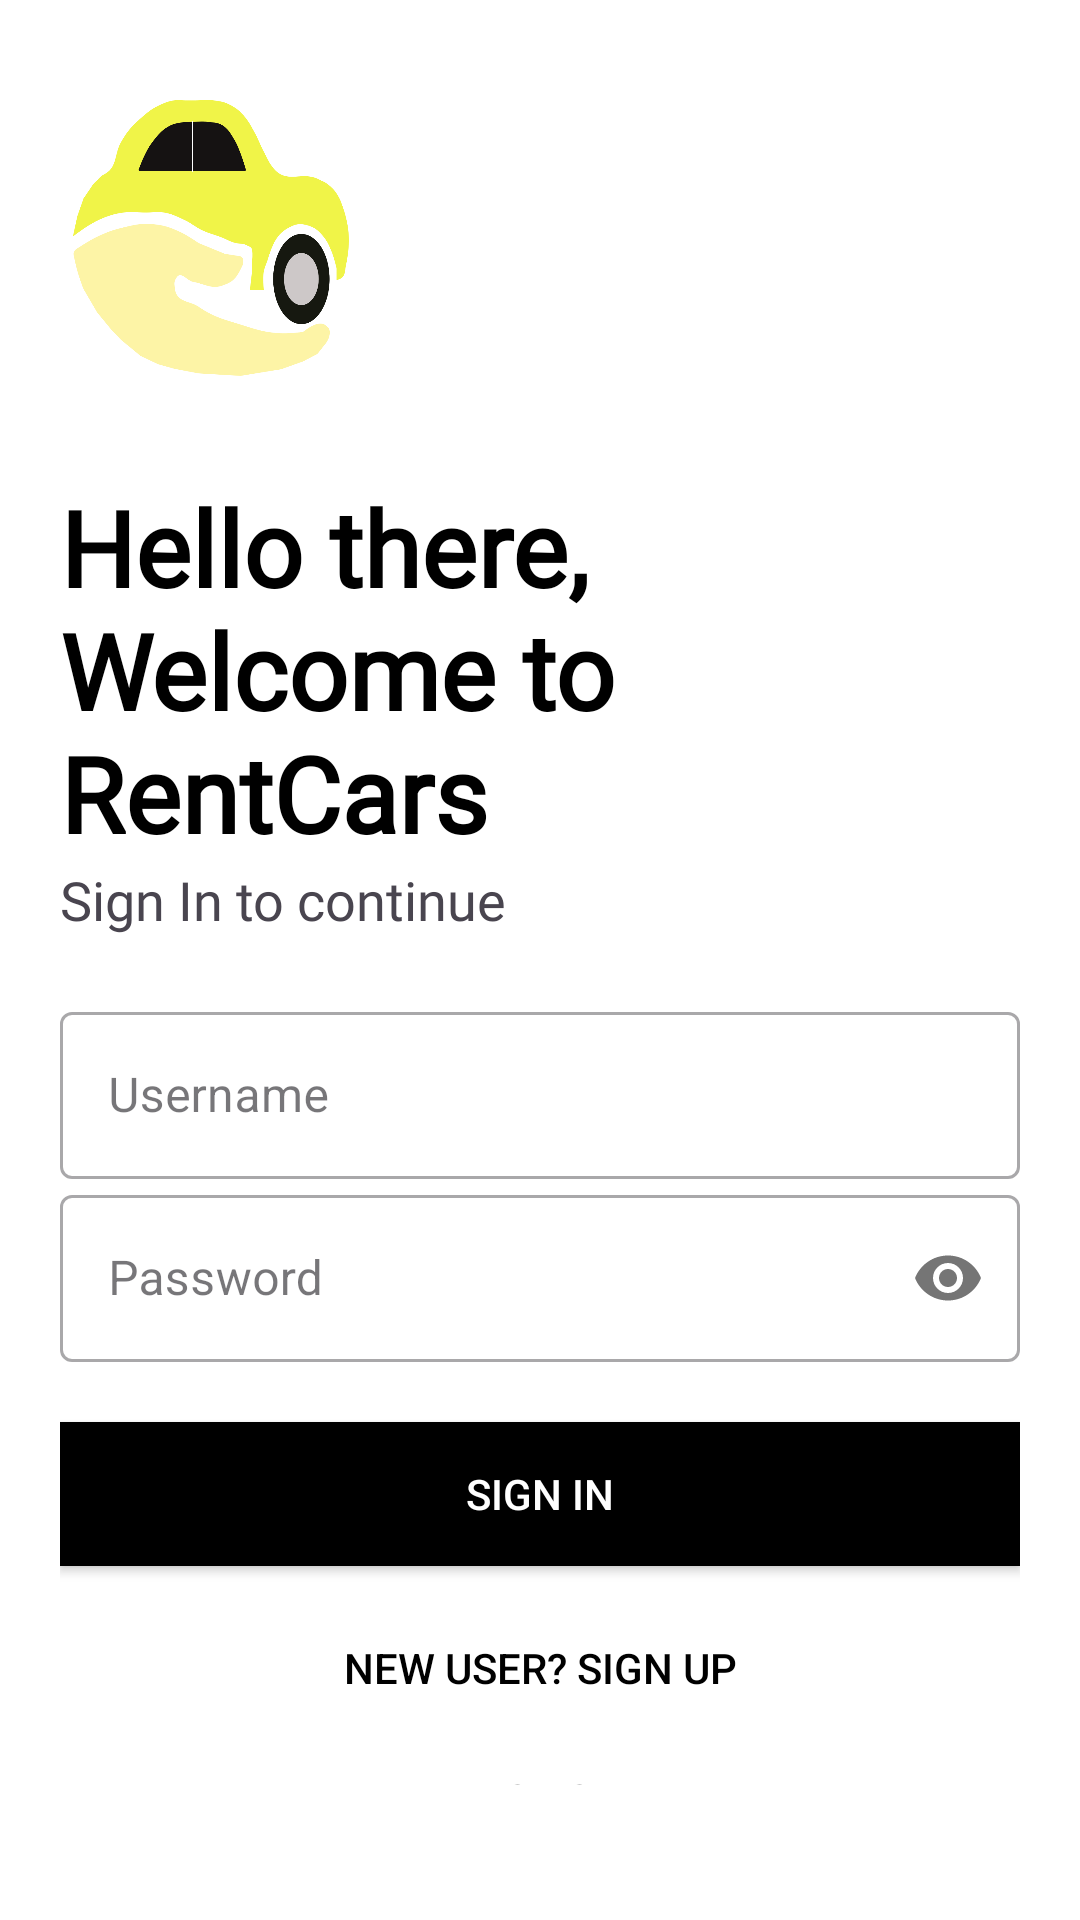

Screen size 1080*1920. Icon name, then its center in pixels as (x=x, y=y):
car: (x=211, y=238)
